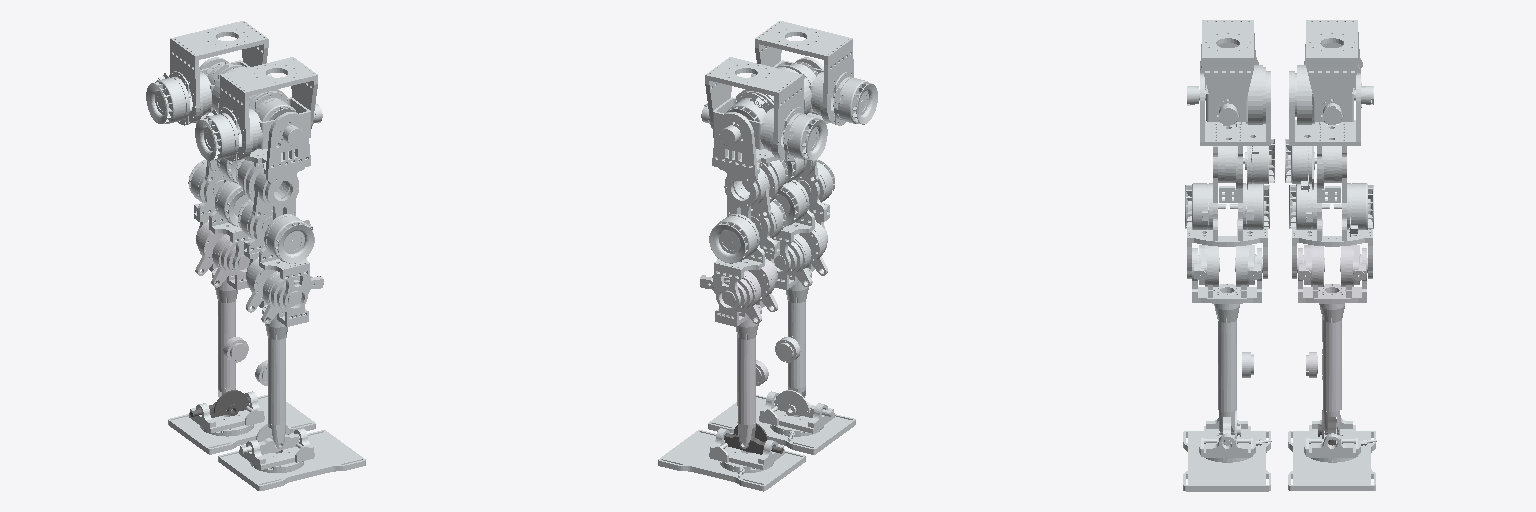
--- What the picture shows (computed from the rendered views, not written in the file) ---
The picture shows the robot from 3 angles, left to right: view 1: azimuth 30°, elevation 25°; view 2: azimuth 150°, elevation 25°; view 3: azimuth 270°, elevation 25°; orthographic projection.
Model surenav_ll with 18 links and 17 joints (12 continuous, 5 fixed), rooted at base_link, posed every joint at zero.
Visible links, largest first — view 1: r_hip_pitch_link, r_hip_yaw_link, l_hip_yaw_link, r_knee_link, r_ankle_roll_link, l_knee_link, l_hip_pitch_link, l_ankle_roll_link, r_hip_roll_link, l_ankle_pitch_link, l_hip_roll_link, r_ankle_pitch_link; view 2: l_hip_pitch_link, l_hip_yaw_link, r_hip_yaw_link, l_knee_link, l_ankle_roll_link, r_knee_link, r_hip_pitch_link, r_ankle_roll_link, l_hip_roll_link, r_ankle_pitch_link, r_hip_roll_link, l_ankle_pitch_link; view 3: l_hip_pitch_link, r_hip_pitch_link, r_knee_link, l_knee_link, r_ankle_roll_link, l_ankle_roll_link, l_hip_yaw_link, r_hip_yaw_link, r_hip_roll_link, l_hip_roll_link.
Link boxes in pixels (x1,y1,x2,y2): r_hip_pitch_link: (236, 112, 314, 311); r_hip_yaw_link: (195, 57, 322, 161); l_hip_yaw_link: (146, 21, 271, 125); r_knee_link: (246, 259, 323, 448); r_ankle_roll_link: (218, 428, 365, 490); l_knee_link: (195, 222, 249, 410); l_hip_pitch_link: (188, 57, 250, 274); l_ankle_roll_link: (168, 391, 315, 454); r_hip_roll_link: (249, 89, 310, 149); l_ankle_pitch_link: (190, 390, 249, 417); l_hip_roll_link: (200, 60, 249, 113); r_ankle_pitch_link: (240, 423, 299, 454); l_hip_pitch_link: (709, 112, 787, 310); l_hip_yaw_link: (701, 57, 827, 160); r_hip_yaw_link: (751, 21, 877, 125); l_knee_link: (700, 258, 777, 448); l_ankle_roll_link: (658, 428, 805, 491); r_knee_link: (774, 222, 827, 410); r_hip_pitch_link: (773, 57, 834, 274); r_ankle_roll_link: (708, 391, 855, 454); l_hip_roll_link: (713, 89, 773, 149); r_ankle_pitch_link: (774, 390, 833, 417); r_hip_roll_link: (774, 60, 823, 114); l_ankle_pitch_link: (724, 423, 783, 454); l_hip_pitch_link: (1285, 71, 1373, 278); r_hip_pitch_link: (1185, 71, 1274, 278); r_knee_link: (1192, 245, 1262, 434); l_knee_link: (1297, 245, 1367, 434); r_ankle_roll_link: (1183, 418, 1271, 491); l_ankle_roll_link: (1288, 415, 1376, 490); l_hip_yaw_link: (1304, 20, 1362, 124); r_hip_yaw_link: (1200, 20, 1258, 126); r_hip_roll_link: (1187, 65, 1265, 126); l_hip_roll_link: (1295, 65, 1373, 124).
Bounding box of the posed robot: 0.3255 × 0.3715 × 0.8763 m (x, y, z).
Meshes: 14 distinct files referenced, 12 mesh visuals loaded (12 Collada DAE); not drawn: 2 (reference not matched to a file when rendering).

robot.urdf — surenav_ll:
<?xml version="1.0" encoding="utf-8"?>
<!-- This URDF was automatically created by SolidWorks to URDF Exporter! Originally created by Stephen Brawner ([email redacted]) 
     Commit Version: 1.5.1-0-g916b5db  Build Version: 1.5.7152.31018
     For more information, please see http://wiki.ros.org/sw_urdf_exporter -->
<robot
  name="surenav_ll">

  <gazebo>
    <plugin name="gazebo_ros_control" filename="libgazebo_ros_control.so">
    <robotNamespace>/surenav_ll</robotNamespace>
    <robotSimType>gazebo_ros_control/DefaultRobotHWSim</robotSimType>
    </plugin>
  </gazebo>

  <gazebo reference="r_hip_yaw_link">
    <mu1>0.9</mu1>
    <mu2>0.9</mu2>
  </gazebo>
  <gazebo reference="r_hip_roll_link">
    <mu1>0.9</mu1>
    <mu2>0.9</mu2>
  </gazebo>
  <gazebo reference="r_hip_pitch_link">
    <mu1>0.9</mu1>
    <mu2>0.9</mu2>
  </gazebo>
  <gazebo reference="r_knee_link">
    <mu1>0.9</mu1>
    <mu2>0.9</mu2>
  </gazebo>
  <gazebo reference="r_ankle_pitch_link">
    <mu1>0.9</mu1>
    <mu2>0.9</mu2>
  </gazebo>
  <gazebo reference="r_ankle_roll_link">
    <mu1>1000</mu1>
    <mu2>1000</mu2>
    <kp>1000000.0</kp>
    <kd>100000.0</kd>
    <slip1>0</slip1>
    <slip2>0</slip2>
  </gazebo>
  <gazebo reference="l_hip_yaw_link">
    <mu1>0.9</mu1>
    <mu2>0.9</mu2>
  </gazebo>
  <gazebo reference="l_hip_roll_link">
    <mu1>0.9</mu1>
    <mu2>0.9</mu2>
  </gazebo>
  <gazebo reference="l_hip_pitch_link">
    <mu1>0.9</mu1>
    <mu2>0.9</mu2>
  </gazebo>
  <gazebo reference="l_knee_link">
    <mu1>0.9</mu1>
    <mu2>0.9</mu2>
  </gazebo>
  <gazebo reference="l_ankle_pitch_link">
    <mu1>0.9</mu1>
    <mu2>0.9</mu2>
  </gazebo>
  <gazebo reference="l_ankle_roll_link">
    <mu1>1000</mu1>
    <mu2>1000</mu2>
    <kp>1000000.0</kp>
    <kd>100000.0</kd>
    <slip1>0</slip1>
    <slip2>0</slip2>
  </gazebo>
  
  <gazebo reference="camera_depth_frame">
    <sensor name="camera1" type="depth">
      <always_on>true</always_on>
      <update_rate>20.0</update_rate>
      <camera>
        <horizontal_fov>1.0471975512</horizontal_fov>
        <image>
          <format>R8G8B8</format>
          <width>640</width>
          <height>480</height>
        </image>
        <clip>
          <near>0.05</near>
          <far>3.0</far>
        </clip>
      </camera>
      <plugin filename="libgazebo_ros_openni_kinect.so" name="camera_depth_frame_kinect_controller">
        <baseline>0.2</baseline>
        <alwaysOn>true</alwaysOn>
        <updateRate>0</updateRate>
        <cameraName>camera1</cameraName>
        <imageTopicName>depth/image_raw</imageTopicName>
        <cameraInfoTopicName>depth/camera_info</cameraInfoTopicName>
        <depthImageTopicName>depth/image_raw</depthImageTopicName>
        <depthImageCameraInfoTopicName>depth/camera_info</depthImageCameraInfoTopicName>
        <pointCloudTopicName>depth/points</pointCloudTopicName>
        <frameName>camera_depth_optical_frame</frameName>
        <pointCloudCutoff>0.5</pointCloudCutoff>
        <pointCloudCutoffMax>3.0</pointCloudCutoffMax>
        <distortionK1>0.00000001</distortionK1>
        <distortionK2>0.00000001</distortionK2>
        <distortionK3>0.00000001</distortionK3>
        <distortionT1>0.00000001</distortionT1>
        <distortionT2>0.00000001</distortionT2>
        <CxPrime>0</CxPrime>
        <Cx>0</Cx>
        <Cy>0</Cy>
        <focalLength>0</focalLength>
        <hackBaseline>0</hackBaseline>
      </plugin>
    </sensor>
  </gazebo>

  <!--<link name="world"/>-->
  <!--<include filename="$(find surenav_description)/urdf/surenav_ll.gazebo" /> -->
  <link
    name="base_link">
    <inertial>
      <origin
        xyz="0 0.0 0.92"
        rpy="0 0 0" />
      <mass
        value="13.27" />
      <inertia
        ixx="0.33"
        ixy="0.00"
        ixz="0.03"
        iyy="0.27"
        iyz="0.00"
        izz="0.14" />
    </inertial>
    <visual>
      <origin
        xyz="0 0 0.92"
        rpy="0 0 0" />
      <geometry>
        <mesh
          filename="package://surenav_description/meshes/base_link.dae" />
      </geometry>
      <material
        name="">
        <color
          rgba="0.752941176470588 0.752941176470588 0.752941176470588 1" />
      </material>
    </visual>
    <collision>
      <origin
        xyz="0 0 0.92"
        rpy="0 0 0" />
      <geometry>
        <cylinder length="0.34" radius="0.1"/>
      </geometry>
    </collision>
  </link>
  <!--<joint name="fixed" type="fixed">
    <parent link="world"/>
    <child link="base_link"/>
    <origin
      xyz="0.0 -0.0 0.92"
      rpy="0 0 0" />
  </joint> -->

  <gazebo reference="base_link">
    <gravity>true</gravity>
    <sensor name="imu_sensor" type="imu">
      <always_on>true</always_on>
      <update_rate>100</update_rate>
      <visualize>true</visualize>
      <topic>__default_topic__</topic>
      <plugin filename="libgazebo_ros_imu_sensor.so" name="imu_plugin">
        <topicName>imu</topicName>
        <bodyName>base_link</bodyName>
        <updateRateHZ>500.0</updateRateHZ>
        <gaussianNoise>0.0</gaussianNoise>
        <xyzOffset>0 0 0</xyzOffset>
        <rpyOffset>0 0 0</rpyOffset>
        <frameName>base_link</frameName>
        <initialOrientationAsReference>false</initialOrientationAsReference>
      </plugin>
      <pose>0 0 0 0 0 0</pose>
    </sensor>
  </gazebo>

  <!-- Parameterised in part by the values in kinect_properties.urdf.xacro -->
  <joint name="camera_rgb_joint" type="fixed">
    <origin rpy="0 0 0" xyz="0.16 0 1.4"/>
    <parent link="base_link"/>
    <child link="camera_rgb_frame"/>
  </joint>
  <link name="camera_rgb_frame">
    <inertial>
      <mass value="0.001"/>
      <origin xyz="0 0 0"/>
      <inertia ixx="0.0001" ixy="0.0" ixz="0.0" iyy="0.0001" iyz="0.0" izz="0.0001"/>
    </inertial>
  </link>
  <joint name="camera_rgb_optical_joint" type="fixed">
    <origin rpy="-1.57079632679 0 -1.57079632679" xyz="0 0 0"/>
    <parent link="camera_rgb_frame"/>
    <child link="camera_rgb_optical_frame"/>
  </joint>
  <link name="camera_rgb_optical_frame">
    <inertial>
      <mass value="0.001"/>
      <origin xyz="0 0 0"/>
      <inertia ixx="0.0001" ixy="0.0" ixz="0.0" iyy="0.0001" iyz="0.0" izz="0.0001"/>
    </inertial>
  </link>
  <joint name="camera_joint" type="fixed">
    <origin rpy="0 0 0" xyz="-0.031 -0.0 -0.016"/>
    <parent link="camera_rgb_frame"/>
    <child link="camera_link"/>
  </joint>
  <link name="camera_link">
    <visual>
      <origin rpy="0 0 0" xyz="0 0 0"/>
      <geometry>
        <mesh filename="package://surenav_description/meshes/kinect.dae"/>
      </geometry>
    </visual>
    <collision>
      <origin rpy="0 0 0" xyz="0.0 0.0 0.0"/>
      <geometry>
        <box size="0.07271 0.27794 0.073"/>
      </geometry>
    </collision>
    <inertial>
      <mass value="0.001"/>
      <origin xyz="0 0 0"/>
      <inertia ixx="0.0001" ixy="0.0" ixz="0.0" iyy="0.0001" iyz="0.0" izz="0.0001"/>
    </inertial>
  </link>
  <!-- The fixed joints & links below are usually published by static_transformers launched by the OpenNi launch 
		 files. However, for Gazebo simulation we need them, so we add them here.
		 (Hence, don't publish them additionally!) -->
  <joint name="camera_depth_joint" type="fixed">
    <origin rpy="0 0 0" xyz="0 0.0 0"/>
    <parent link="camera_rgb_frame"/>
    <child link="camera_depth_frame"/>
  </joint>
  <link name="camera_depth_frame">
    <inertial>
      <mass value="0.001"/>
      <origin xyz="0 0 0"/>
      <inertia ixx="0.0001" ixy="0.0" ixz="0.0" iyy="0.0001" iyz="0.0" izz="0.0001"/>
    </inertial>
  </link>
  <joint name="camera_depth_optical_joint" type="fixed">
    <origin rpy="-1.57079632679 0 -1.57079632679" xyz="0 0 0"/>
    <parent link="camera_depth_frame"/>
    <child link="camera_depth_optical_frame"/>
  </joint>
  <link name="camera_depth_optical_frame">
    <inertial>
      <mass value="0.001"/>
      <origin xyz="0 0 0"/>
      <inertia ixx="0.0001" ixy="0.0" ixz="0.0" iyy="0.0001" iyz="0.0" izz="0.0001"/>
    </inertial>
  </link>
  
  <link
    name="r_hip_yaw_link">
    <inertial>
      <origin
        xyz="-0.08 0.00 -0.09"
        rpy="0 0 0" />
      <mass
        value="3.17" />
      <inertia
        ixx="0.01"
        ixy="0.00"
        ixz="0.00"
        iyy="0.02"
        iyz="0.00"
        izz="0.02" />
    </inertial>
    <visual>
      <origin
        xyz="0 0 0"
        rpy="0 0 0" />
      <geometry>
        <mesh
          filename="package://surenav_description/meshes/r_hip_yaw_link.dae" />
      </geometry>
      <material
        name="">
        <color
          rgba="0.898039215686275 0.917647058823529 0.929411764705882 1" />
      </material>
    </visual>
  </link>
  <joint
    name="r_hip_yaw_joint"
    type="continuous">
    <origin
      xyz="0.016506 -0.1 0.894"
      rpy="0 0 0" />
    <parent
      link="base_link" />
    <child
      link="r_hip_yaw_link" />
    <axis
      xyz="0 0 1" />
    <dynamics damping="0.7" />
  </joint>
  <link
    name="r_hip_roll_link">
    <inertial>
      <origin
        xyz="0.00 0.02 0.00"
        rpy="0 0 0" />
      <mass
        value="2.44" />
      <inertia
        ixx="0.01"
        ixy="0.00"
        ixz="0.00"
        iyy="0.00"
        iyz="0.00"
        izz="0.01" />
    </inertial>
    <visual>
      <origin
        xyz="0 0 0"
        rpy="0 0 0" />
      <geometry>
        <mesh
          filename="package://surenav_description/meshes/r_hip_roll_link.dae" />
      </geometry>
      <material
        name="">
        <color
          rgba="0.898039215686275 0.917647058823529 0.929411764705882 1" />
      </material>
    </visual>
  </link>
  <joint
    name="r_hip_roll_joint"
    type="continuous">
    <origin
      xyz="-0.001999993716754 0 -0.111300000335593"
      rpy="0 0 0" />
    <parent
      link="r_hip_yaw_link" />
    <child
      link="r_hip_roll_link" />
    <axis
      xyz="1 0 0" />
    <dynamics damping="0.7" />
  </joint>
  <link
    name="r_hip_pitch_link">
    <inertial>
      <origin
        xyz="0.00 0.01 -0.19"
        rpy="0 0 0" />
      <mass
        value="5.27" />
      <inertia
        ixx="0.05"
        ixy="0.00"
        ixz="0.00"
        iyy="0.04"
        iyz="0.00"
        izz="0.02" />
    </inertial>
    <visual>
      <origin
        xyz="0 0 0"
        rpy="0 0 0" />
      <geometry>
        <mesh
          filename="package://surenav_description/meshes/r_hip_pitch_link.dae" />
      </geometry>
      <material
        name="">
        <color
          rgba="0.898039215686275 0.917647058823529 0.929411764705882 1" />
      </material>
    </visual>
  </link>
  <joint
    name="r_hip_pitch_joint"
    type="continuous">
    <origin
      xyz="0 0 0"
      rpy="0 0 0" />
    <parent
      link="r_hip_roll_link" />
    <child
      link="r_hip_pitch_link" />
    <axis
      xyz="0 1 0" />
    <dynamics damping="0.7" />
  </joint>
  <link
    name="r_knee_link">
    <inertial>
      <origin
        xyz="0.02 0.00 -0.08"
        rpy="0 0 0" />
      <mass
        value="2.19" />
      <inertia
        ixx="0.03"
        ixy="0.00"
        ixz="0.00"
        iyy="0.03"
        iyz="0.00"
        izz="0.01" />
    </inertial>
    <visual>
      <origin
        xyz="0 0 0"
        rpy="0 0 0" />
      <geometry>
        <mesh
          filename="package://surenav_description/meshes/r_knee_link.dae" />
      </geometry>
      <material
        name="">
        <color
          rgba="0.898039215686275 0.917647058823529 0.929411764705882 1" />
      </material>
    </visual>
  </link>
  <joint
    name="r_knee_joint"
    type="continuous">
    <origin
      xyz="8.90422801721746E-05 -0.00199999999999427 -0.360035173572729"
      rpy="0 0 0" />
    <parent
      link="r_hip_pitch_link" />
    <child
      link="r_knee_link" />
    <axis
      xyz="0 1 0" />
    <dynamics damping="0.7" />
  </joint>
  <link
    name="r_ankle_pitch_link">
    <inertial>
      <origin
        xyz="0.01 0.00 0.00"
        rpy="0 0 0" />
      <mass
        value="0.15" />
      <inertia
        ixx="9.14169347532514E-10"
        ixy="3.76489693052083E-10"
        ixz="1.3620702406152E-10"
        iyy="0.00"
        iyz="1.82076506118357E-10"
        izz="0.00" />
    </inertial>
    <visual>
      <origin
        xyz="0 0 0"
        rpy="0 0 0" />
      <geometry>
        <mesh
          filename="package://surenav_description/meshes/r_ankle_pitch_link.dae" />
      </geometry>
      <material
        name="">
        <color
          rgba="0.898039215686275 0.917647058823529 0.929411764705882 1" />
      </material>
    </visual>
  </link>
  <joint
    name="r_ankle_pitch_joint"
    type="continuous">
    <origin
      xyz="0.000997412382606738 0 -0.350014948599999"
      rpy="0 0 0" />
    <parent
      link="r_knee_link" />
    <child
      link="r_ankle_pitch_link" />
    <axis
      xyz="0 1 0" />
    <dynamics damping="0.7" />
  </joint>
  <link
    name="r_ankle_roll_link">
    <inertial>
      <origin
        xyz="0.02 0.00 -0.04"
        rpy="0 0 0" />
      <mass
        value="1.93" />
      <inertia
        ixx="0.00"
        ixy="0.00"
        ixz="0.00"
        iyy="0.01"
        iyz="0.00"
        izz="0.01" />
    </inertial>
    <visual>
      <origin
        xyz="0 0 0"
        rpy="0 0 0" />
      <geometry>
        <mesh
          filename="package://surenav_description/meshes/r_ankle_roll_link.dae" />
      </geometry>
      <material
        name="">
        <color
          rgba="0.898039215686275 0.917647058823529 0.929411764705882 1" />
      </material>
    </visual>
    <collision>
      <origin
        xyz="0 0 0"
        rpy="0 0 0" />
      <geometry>
        <mesh
          filename="package://surenav_description/meshes/r_ankle_roll_link.dae" />
      </geometry>
      <surface>
        <friction>
          <ode>
            <mu>10</mu>
            <mu2>10</mu2>
          </ode>
        </friction>
      </surface>
    </collision>
  </link>
  <joint
    name="r_ankle_roll_joint"
    type="continuous">
    <origin
      xyz="0 0 5.60144157897291E-05"
      rpy="0 0 0" />
    <parent
      link="r_ankle_pitch_link" />
    <child
      link="r_ankle_roll_link" />
    <axis
      xyz="1 0 0" />
    <dynamics damping="0.7" />
  </joint>
  <link
    name="l_hip_yaw_link">
    <inertial>
      <origin
        xyz="-0.08 0.00 -0.09"
        rpy="0 0 0" />
      <mass
        value="3.17" />
      <inertia
        ixx="0.01"
        ixy="0.00"
        ixz="0.00"
        iyy="0.02"
        iyz="0.00"
        izz="0.02" />
    </inertial>
    <visual>
      <origin
        xyz="0 0 0"
        rpy="0 0 0" />
      <geometry>
        <mesh
          filename="package://surenav_description/meshes/l_hip_yaw_link.dae" />
      </geometry>
      <material
        name="">
        <color
          rgba="0.898039215686275 0.917647058823529 0.929411764705882 1" />
      </material>
    </visual>
  </link>
  <joint
    name="l_hip_yaw_joint"
    type="continuous">
    <origin
      xyz="0.016506 0.1 0.894"
      rpy="0 0 0" />
    <parent
      link="base_link" />
    <child
      link="l_hip_yaw_link" />
    <axis
      xyz="0 0 1" />
    <dynamics damping="0.7" />
  </joint>
  <link
    name="l_hip_roll_link">
    <inertial>
      <origin
        xyz="0.00 -0.02 0.00"
        rpy="0 0 0" />
      <mass
        value="2.44" />
      <inertia
        ixx="0.01"
        ixy="0.00"
        ixz="0.00"
        iyy="0.00"
        iyz="0.00"
        izz="0.01" />
    </inertial>
    <visual>
      <origin
        xyz="0 0 0"
        rpy="0 0 0" />
      <geometry>
        <mesh
          filename="package://surenav_description/meshes/l_hip_roll_link.dae" />
      </geometry>
      <material
        name="">
        <color
          rgba="0.898039215686275 0.917647058823529 0.929411764705882 1" />
      </material>
    </visual>
  </link>
  <joint
    name="l_hip_roll_joint"
    type="continuous">
    <origin
      xyz="-0.002 0 -0.1113"
      rpy="0 0 0" />
    <parent
      link="l_hip_yaw_link" />
    <child
      link="l_hip_roll_link" />
    <axis
      xyz="1 0 0" />
    <dynamics damping="0.7" />
  </joint>
  <link
    name="l_hip_pitch_link">
    <inertial>
      <origin
        xyz="0.00 -0.01 -0.19"
        rpy="0 0 0" />
      <mass
        value="5.61" />
      <inertia
        ixx="0.05"
        ixy="0.00"
        ixz="0.00"
        iyy="0.04"
        iyz="0.00"
        izz="0.02" />
    </inertial>
    <visual>
      <origin
        xyz="0 0 0"
        rpy="0 0 0" />
      <geometry>
        <mesh
          filename="package://surenav_description/meshes/l_hip_pitch_link.dae" />
      </geometry>
      <material
        name="">
        <color
          rgba="0.898039215686275 0.917647058823529 0.929411764705882 1" />
      </material>
    </visual>
  </link>
  <joint
    name="l_hip_pitch_joint"
    type="continuous">
    <origin
      xyz="0 0 0"
      rpy="0 0 0" />
    <parent
      link="l_hip_roll_link" />
    <child
      link="l_hip_pitch_link" />
    <axis
      xyz="0 1 0" />
    <dynamics damping="0.7" />
  </joint>
  <link
    name="l_knee_link">
    <inertial>
      <origin
        xyz="0.02 0.00 -0.08"
        rpy="0 0 0" />
      <mass
        value="2.19" />
      <inertia
        ixx="0.03"
        ixy="0.00"
        ixz="0.00"
        iyy="0.03"
        iyz="0.00"
        izz="0.01" />
    </inertial>
    <visual>
      <origin
        xyz="0 0 0"
        rpy="0 0 0" />
      <geometry>
        <mesh
          filename="package://surenav_description/meshes/l_knee_link.dae" />
      </geometry>
      <material
        name="">
        <color
          rgba="0.890196078431372 0.890196078431372 0.913725490196078 1" />
      </material>
    </visual>
  </link>
  <joint
    name="l_knee_joint"
    type="continuous">
    <origin
      xyz="0.00103756952385898 0 -0.359882712287639"
      rpy="0 0 0" />
    <parent
      link="l_hip_pitch_link" />
    <child
      link="l_knee_link" />
    <axis
      xyz="0 1 0" />
    <dynamics damping="0.7" />
  </joint>
  <link
    name="l_ankle_pitch_link">
    <inertial>
      <origin
        xyz="-0.03 0.00 0.00"
        rpy="0 0 0" />
      <mass
        value="0.19" />
      <inertia
        ixx="0.00"
        ixy="-3.76490173411526E-10"
        ixz="1.36207024060003E-10"
        iyy="0.00"
        iyz="-1.82076485447733E-10"
        izz="0.00" />
    </inertial>
    <visual>
      <origin
        xyz="0 0 0"
        rpy="0 0 0" />
      <geometry>
        <mesh
          filename="package://surenav_description/meshes/l_ankle_pitch_link.dae" />
      </geometry>
      <material
        name="">
        <color
          rgba="0.498039215686275 0.498039215686275 0.498039215686275 1" />
      </material>
    </visual>
  </link>
  <joint
    name="l_ankle_pitch_joint"
    type="continuous">
    <origin
      xyz="0 0 -0.349994948634218"
      rpy="0 0 0" />
    <parent
      link="l_knee_link" />
    <child
      link="l_ankle_pitch_link" />
    <axis
      xyz="0 1 0" />
    <dynamics damping="0.7" />
  </joint>
  <link
    name="l_ankle_roll_link">
    <inertial>
      <origin
        xyz="0.03 0.00 -0.04"
        rpy="0 0 0" />
      <mass
        value="1.85" />
      <inertia
        ixx="0.00"
        ixy="0.00"
        ixz="0.00"
        iyy="0.01"
        iyz="0.00"
        izz="0.01" />
    </inertial>
    <visual>
      <origin
        xyz="0 0 0"
        rpy="0 0 0" />
      <geometry>
        <mesh
          filename="package://surenav_description/meshes/l_ankle_roll_link.dae" />
      </geometry>
      <material
        name="">
        <color
          rgba="0.898039215686275 0.917647058823529 0.929411764705882 1" />
      </material>
    </visual>
    <collision>
      <origin
        xyz="0 0 0"
        rpy="0 0 0" />
      <geometry>
        <mesh
          filename="package://surenav_description/meshes/l_ankle_roll_link.dae" />
      </geometry>
      <surface>
        <friction>
          <ode>
            <mu>100</mu>
            <mu2>100</mu2>
          </ode>
        </friction>
      </surface>
    </collision>
  </link>
  <joint
    name="l_ankle_roll_joint"
    type="continuous">
    <origin
      xyz="0 0 5.60157164942732E-05"
      rpy="0 0 0" />
    <parent
      link="l_ankle_pitch_link" />
    <child
      link="l_ankle_roll_link" />
    <axis
      xyz="1 0 0" />
    <dynamics damping="0.7" />
  </joint>

  <transmission name="r_hip_yaw_tran">
    <type>transmission_interface/SimpleTransmission</type>
    <joint name="r_hip_yaw_joint">
      <hardwareInterface>hardware_interface/EffortJointInterface</hardwareInterface>
    </joint>
    <actuator name="r_hip_yaw_motor">
      <hardwareInterface>hardware_interface/EffortJointInterface</hardwareInterface>
      <mechanicalReduction>1</mechanicalReduction>
    </actuator>
  </transmission>

  <transmission name="r_hip_roll_tran">
    <type>transmission_interface/SimpleTransmission</type>
    <joint name="r_hip_roll_joint">
      <hardwareInterface>hardware_interface/EffortJointInterface</hardwareInterface>
    </joint>
    <actuator name="r_hip_roll_motor">
      <hardwareInterface>hardware_interface/EffortJointInterface</hardwareInterface>
      <mechanicalReduction>1</mechanicalReduction>
    </actuator>
  </transmission>

  <transmission name="r_hip_pitch_tran">
    <type>transmission_interface/SimpleTransmission</type>
    <joint name="r_hip_pitch_joint">
      <hardwareInterface>hardware_interface/EffortJointInterface</hardwareInterface>
    </joint>
    <actuator name="r_hip_pitch_motor">
      <hardwareInterface>hardware_interface/EffortJointInterface</hardwareInterface>
      <mechanicalReduction>1</mechanicalReduction>
    </actuator>
  </transmission>

  <transmission name="r_knee_tran">
    <type>transmission_interface/SimpleTransmission</type>
    <joint name="r_knee_joint">
      <hardwareInterface>hardware_interface/EffortJointInterface</hardwareInterface>
    </joint>
    <actuator name="r_knee_motor">
      <hardwareInterface>hardware_interface/EffortJointInterface</hardwareInterface>
      <mechanicalReduction>1</mechanicalReduction>
    </actuator>
  </transmission>

  <transmission name="r_ankle_pitch_tran">
    <type>transmission_interface/SimpleTransmission</type>
    <joint name="r_ankle_pitch_joint">
      <hardwareInterface>hardware_interface/EffortJointInterface</hardwareInterface>
    </joint>
    <actuator name="r_ankle_pitch_motor">
      <hardwareInterface>hardware_interface/EffortJointInterface</hardwareInterface>
      <mechanicalReduction>1</mechanicalReduction>
    </actuator>
  </transmission>

  <transmission name="r_ankle_roll_tran">
    <type>transmission_interface/SimpleTransmission</type>
    <joint name="r_ankle_roll_joint">
      <hardwareInterface>hardware_interface/EffortJointInterface</hardwareInterface>
    </joint>
    <actuator name="r_ankle_roll_motor">
      <hardwareInterface>hardware_interface/EffortJointInterface</hardwareInterface>
      <mechanicalReduction>1</mechanicalReduction>
    </actuator>
  </transmission>
  
  <transmission name="l_hip_yaw_tran">
    <type>transmission_interface/SimpleTransmission</type>
    <joint name="l_hip_yaw_joint">
      <hardwareInterface>hardware_interface/EffortJointInterface</hardwareInterface>
    </joint>
    <actuator name="l_hip_yaw_motor">
      <hardwareInterface>hardware_interface/EffortJointInterface</hardwareInterface>
      <mechanicalReduction>1</mechanicalReduction>
    </actuator>
  </transmission>

  <transmission name="l_hip_roll_tran">
    <type>transmission_interface/SimpleTransmission</type>
    <joint name="l_hip_roll_joint">
      <hardwareInterface>hardware_interface/EffortJointInterface</hardwareInterface>
    </joint>
    <actuator name="l_hip_roll_motor">
      <hardwareInterface>hardware_interface/EffortJointInterface</hardwareInterface>
      <mechanicalReduction>1</mechanicalReduction>
    </actuator>
  </transmission>

  <transmission name="l_hip_pitch_tran">
    <type>transmission_interface/SimpleTransmission</type>
    <joint name="l_hip_pitch_joint">
      <hardwareInterface>hardware_interface/EffortJointInterface</hardwareInterface>
    </joint>
    <actuator name="l_hip_pitch_motor">
      <hardwareInterface>hardware_interface/EffortJointInterface</hardwareInterface>
      <mechanicalReduction>1</mechanicalReduction>
    </actuator>
  </transmission>

  <transmission name="l_knee_tran">
    <type>transmission_interface/SimpleTransmission</type>
    <joint name="l_knee_joint">
      <hardwareInterface>hardware_interface/EffortJointInterface</hardwareInterface>
    </joint>
    <actuator name="l_knee_motor">
      <hardwareInterface>hardware_interface/EffortJointInterface</hardwareInterface>
      <mechanicalReduction>1</mechanicalReduction>
    </actuator>
  </transmission>

  <transmission name="l_ankle_pitch_tran">
    <type>transmission_interface/SimpleTransmission</type>
    <joint name="l_ankle_pitch_joint">
      <hardwareInterface>hardware_interface/EffortJointInterface</hardwareInterface>
    </joint>
    <actuator name="l_ankle_pitch_motor">
      <hardwareInterface>hardware_interface/EffortJointInterface</hardwareInterface>
      <mechanicalReduction>1</mechanicalReduction>
    </actuator>
  </transmission>

  <transmission name="l_ankle_roll_tran">
    <type>transmission_interface/SimpleTransmission</type>
    <joint name="l_ankle_roll_joint">
      <hardwareInterface>hardware_interface/EffortJointInterface</hardwareInterface>
    </joint>
    <actuator name="l_ankle_roll_motor">
      <hardwareInterface>hardware_interface/EffortJointInterface</hardwareInterface>
      <mechanicalReduction>1</mechanicalReduction>
    </actuator>
  </transmission>
</robot>
